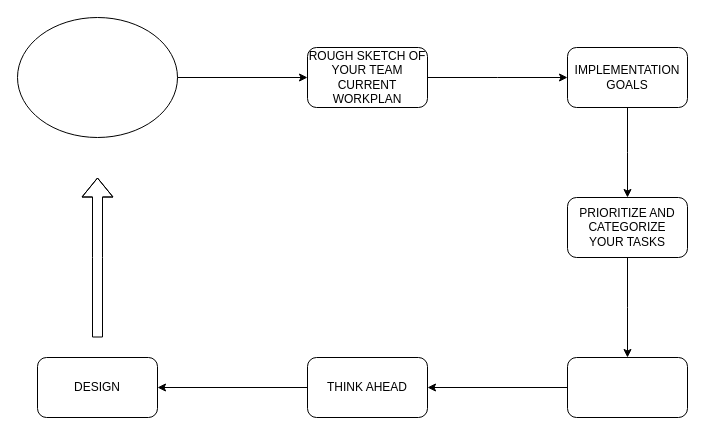
This 705x435 diagram has some shape labels left out. Here are the shapes that lost their labels. From the top down, the centre of each, then its label:
point (97, 77): DETERMINE POINT OF VIEW OF THE NEW IMPLEMENTATION
point (627, 387): PINPOINT WEAK AREAS
